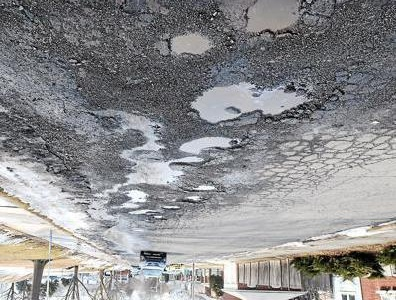pothole: (187, 81, 315, 126), (239, 0, 305, 40), (176, 137, 243, 157), (166, 33, 213, 58), (186, 184, 222, 195), (169, 157, 204, 166), (180, 194, 205, 205), (160, 204, 182, 211)
